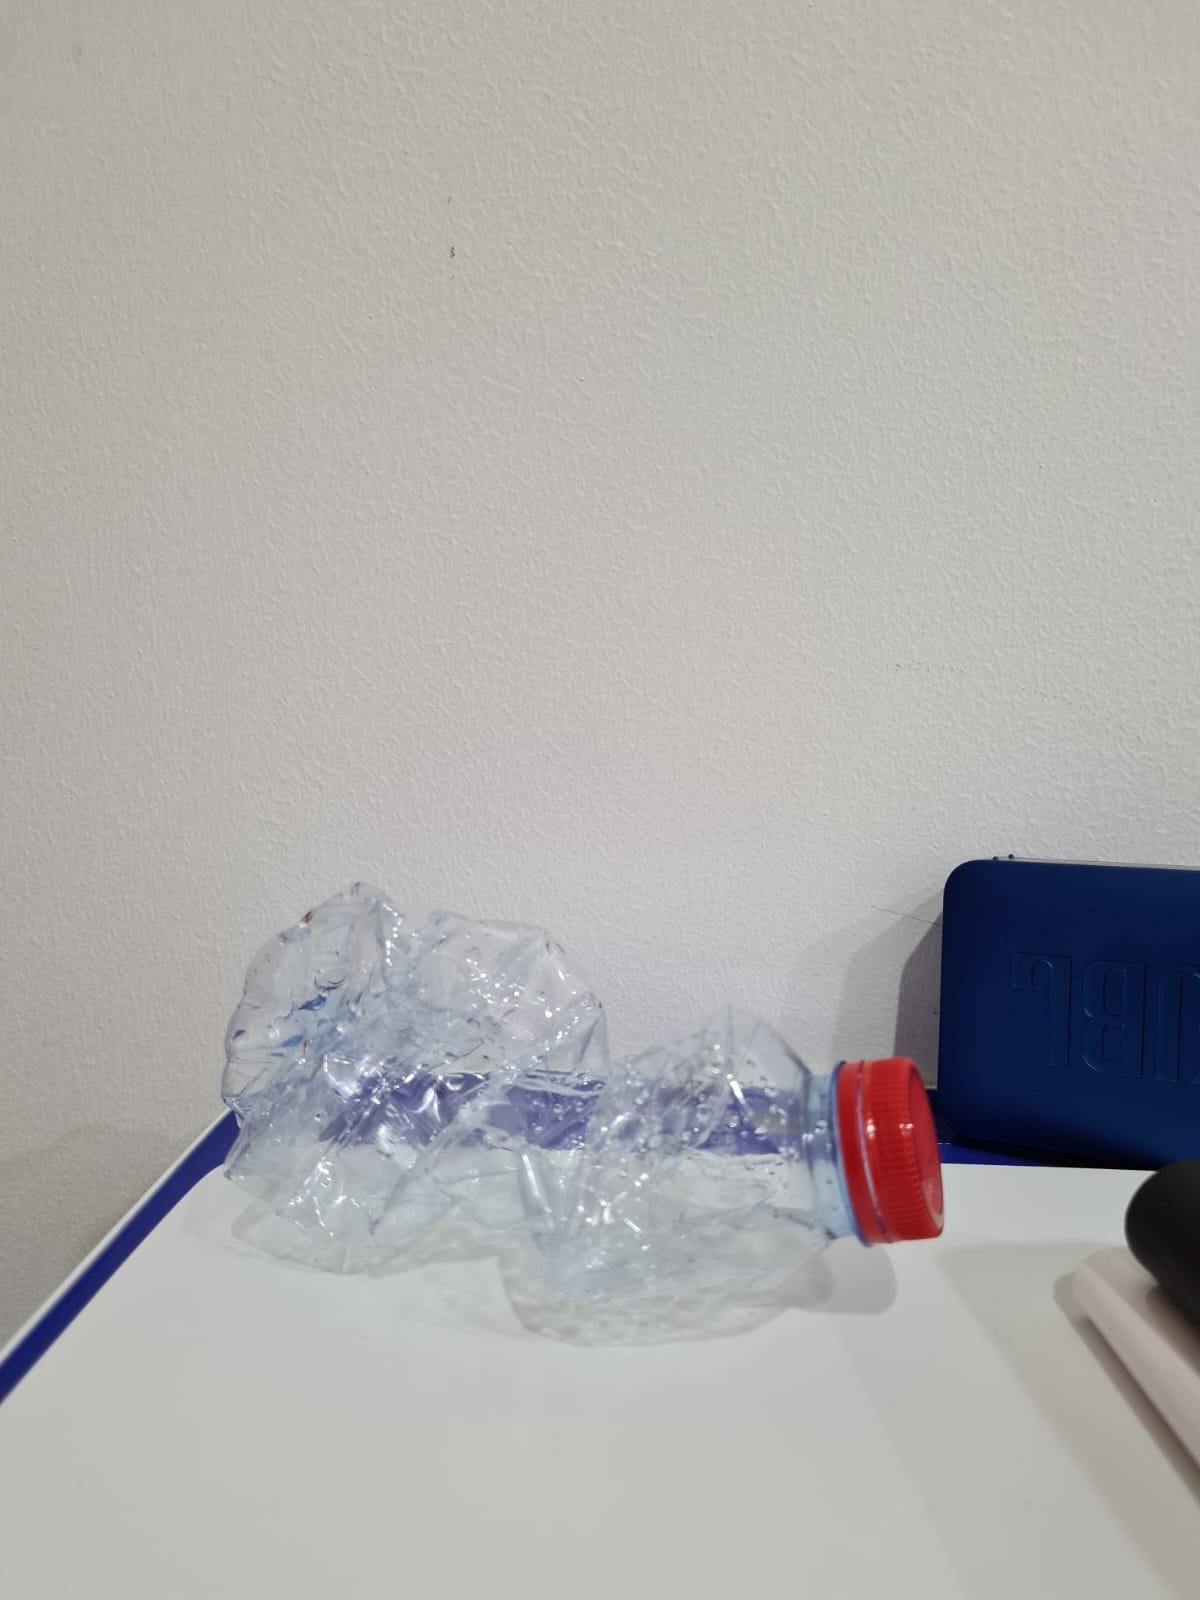bottle: (241, 864, 943, 1337)
